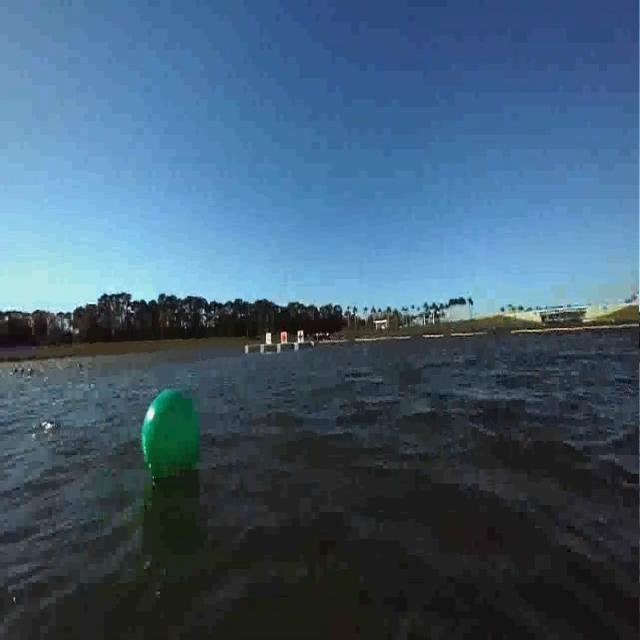green-buoy: (138, 384, 200, 485)
